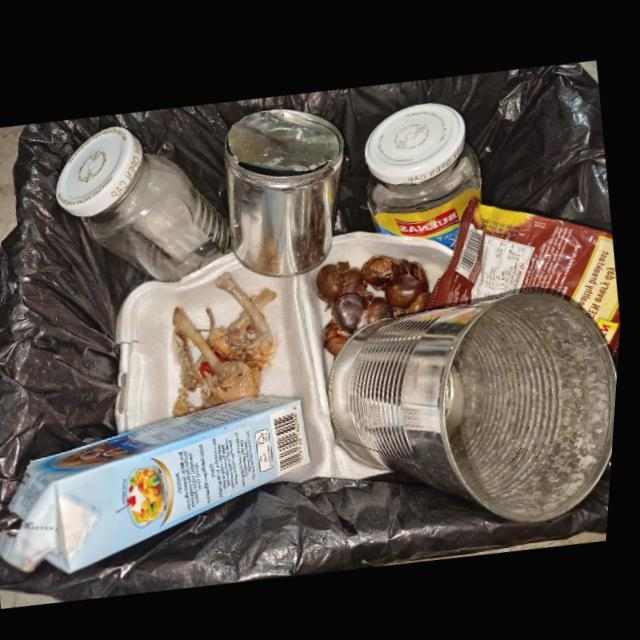biowaste: (176, 269, 282, 416), (320, 251, 435, 353)
glass: (58, 124, 237, 281), (366, 98, 485, 245)
metal: (333, 281, 622, 519), (226, 106, 347, 274)
paper: (3, 393, 316, 572)
styrofoam: (121, 228, 457, 480)
wrapper: (432, 193, 625, 346)
